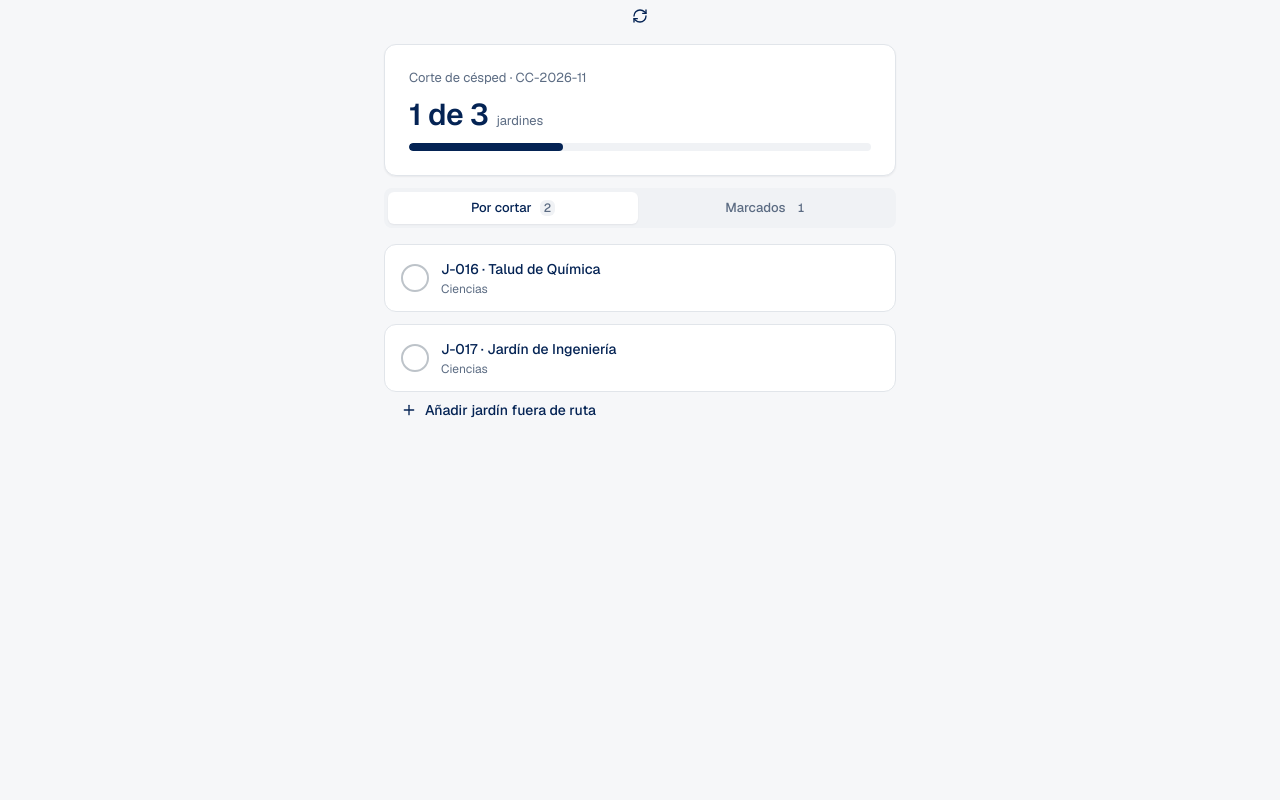
Scenario: RutaDeHoyPage › en Marcados, un toque abre «ya está marcado» con quién y cuándo y añade la observación (Figma 375-6817)
expect the text "1 de 3" is shown: met, box [409,97,488,133]
Step 1. Click the tab "Marcados 1" → [767, 208], box [642,192,892,224]
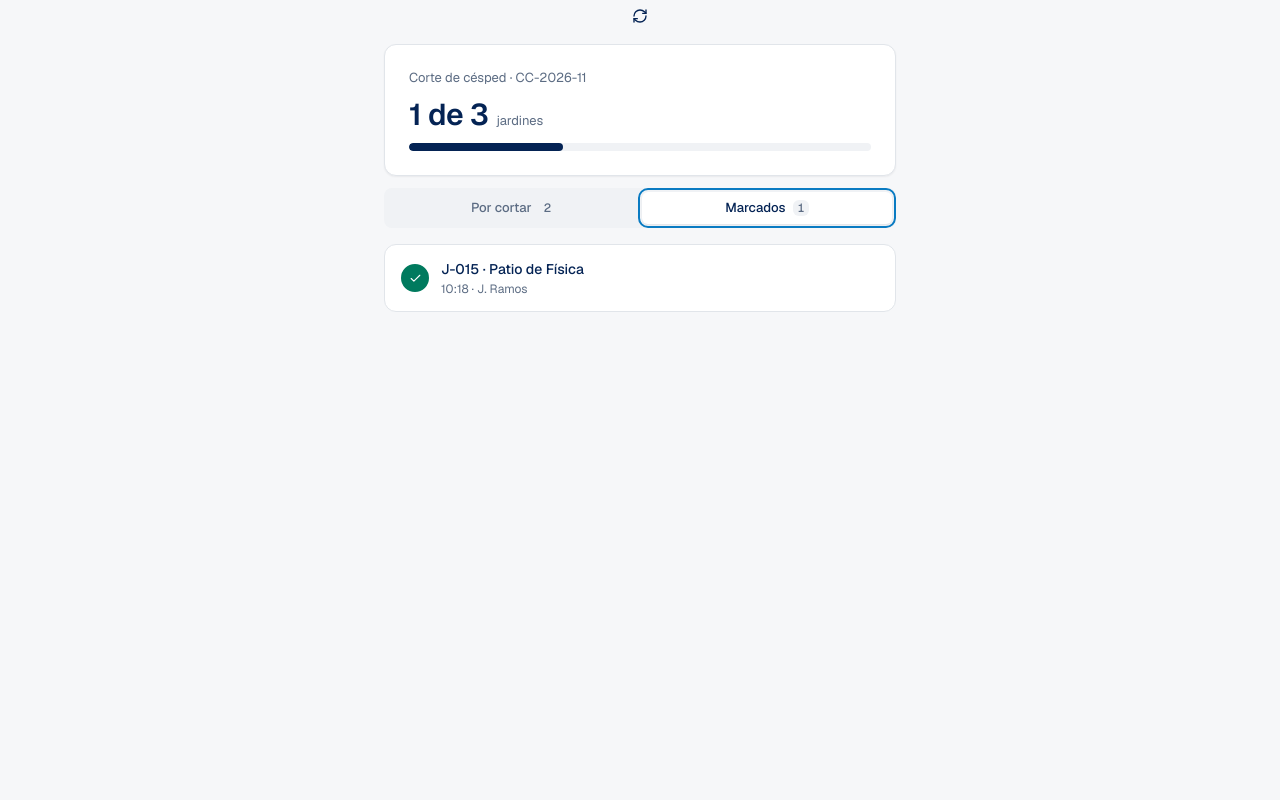
Step 2. Click the button named "J-015 · Patio de Física, marcado" → [640, 278], box [384,244,896,312]
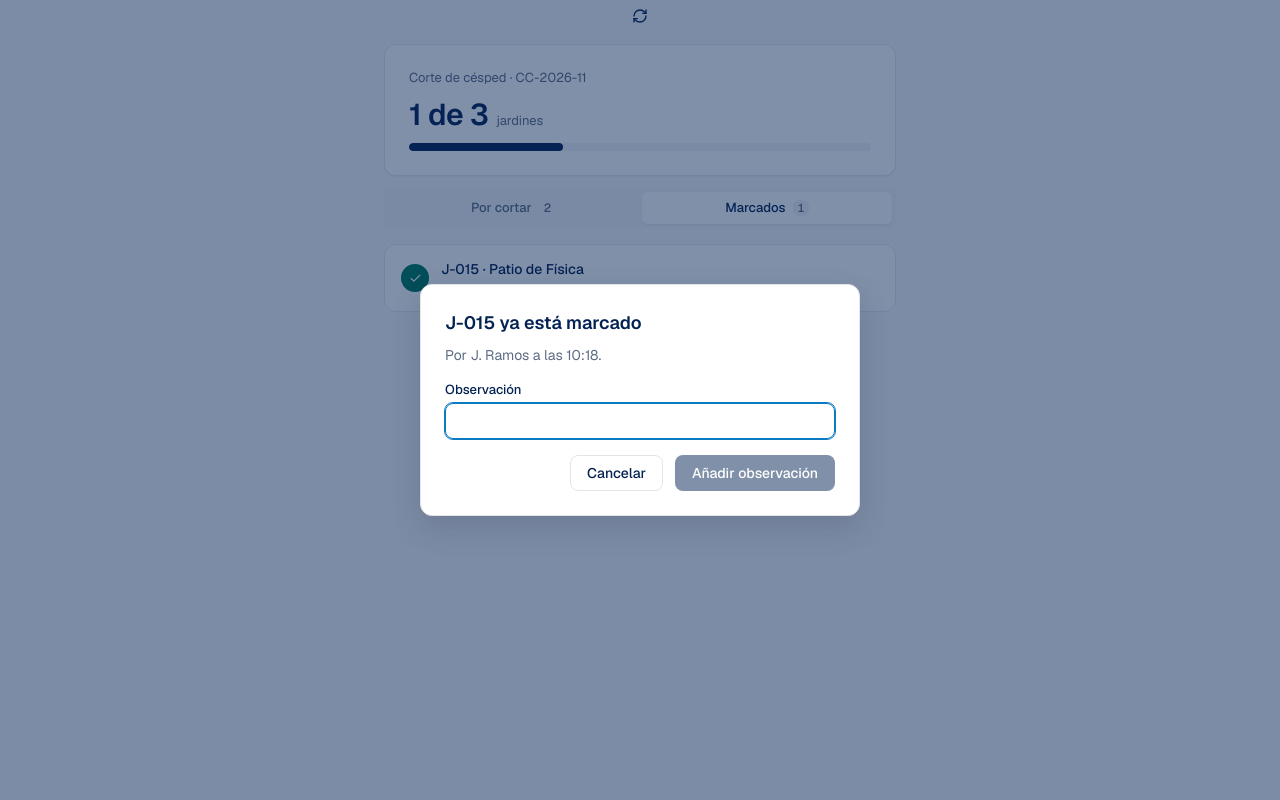
expect the dialog "J-015 ya está marcado" is shown: met, box [420,284,860,516]
expect the text "Por J. Ramos a las 10:18." is shown: met, box [445,346,601,364]
Step 3. Type "Quedó una franja sin cortar" into the field labelled "Observación" → [640, 421], box [445,403,835,439]
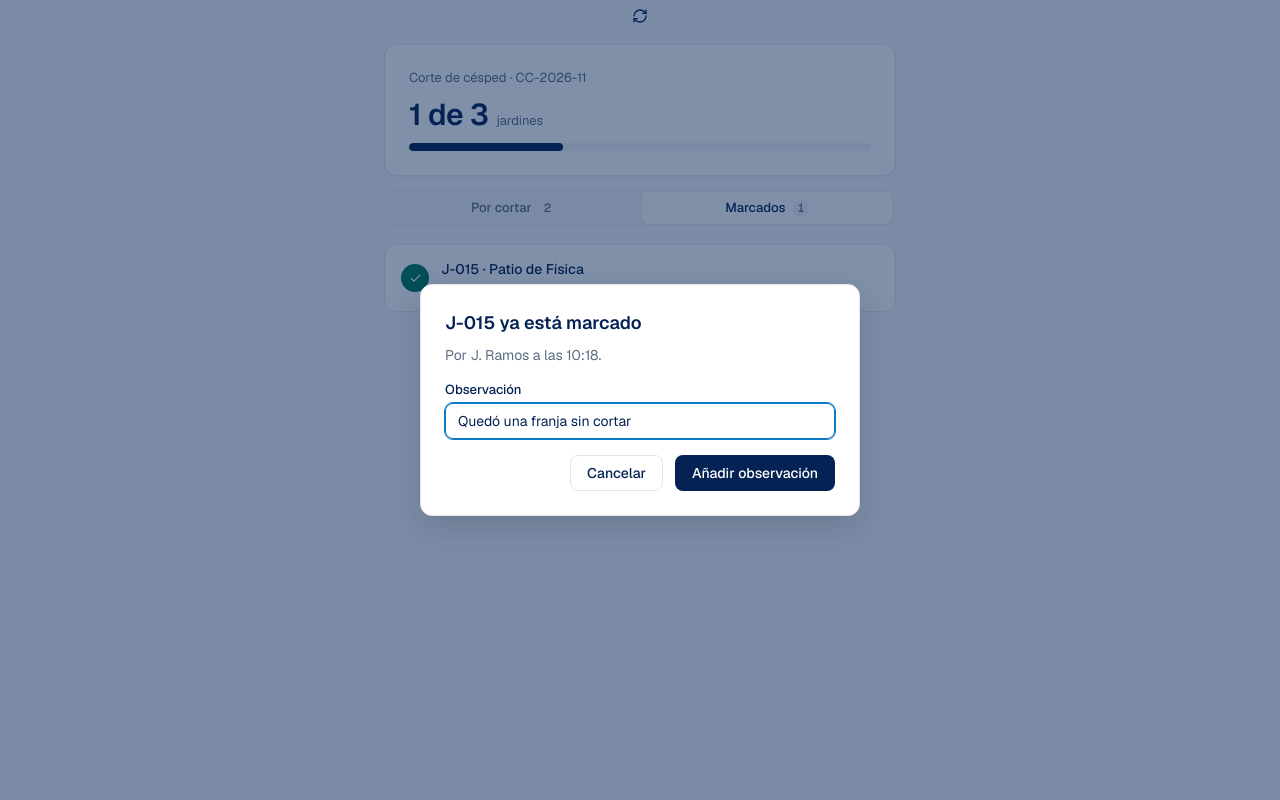
Step 4. Click the button "Añadir observación" → [755, 473], box [675,455,835,491]
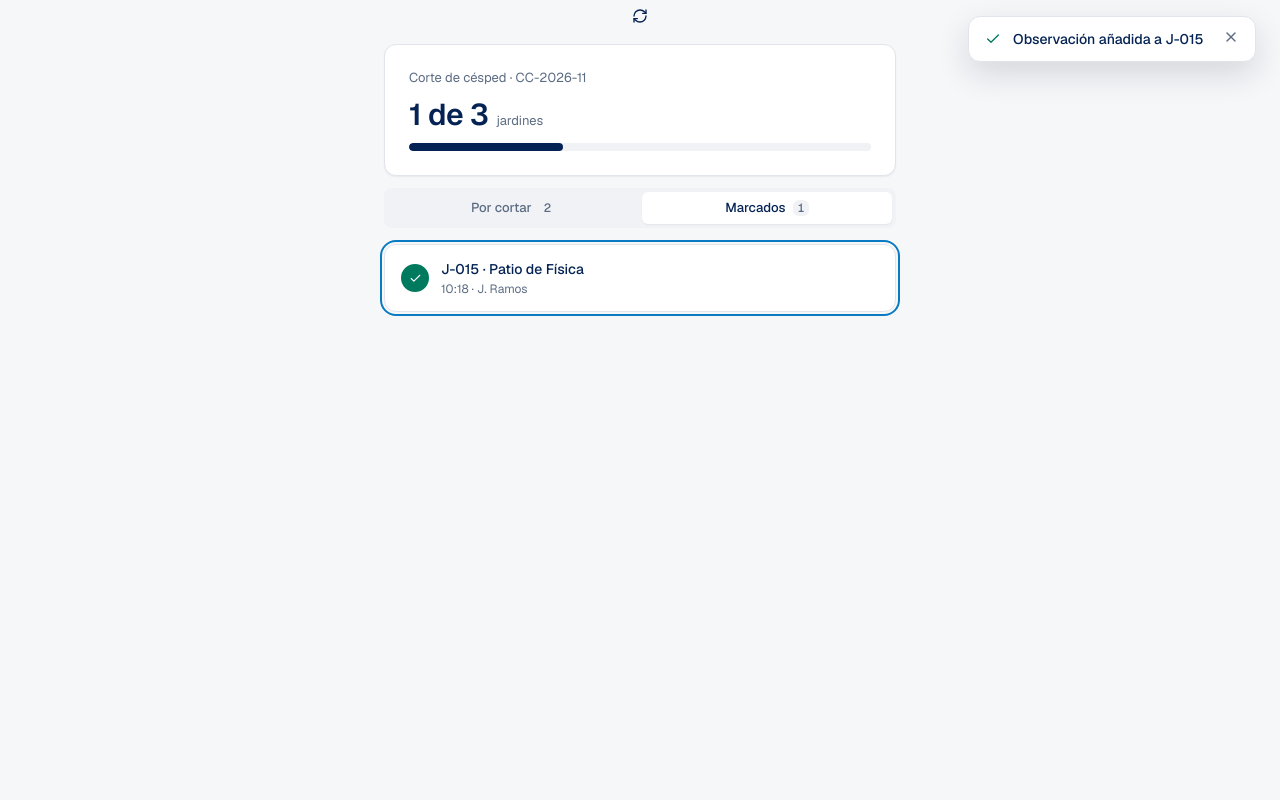
expect the text "Observación añadida a J-015" is shown: met, box [1013,29,1211,49]
